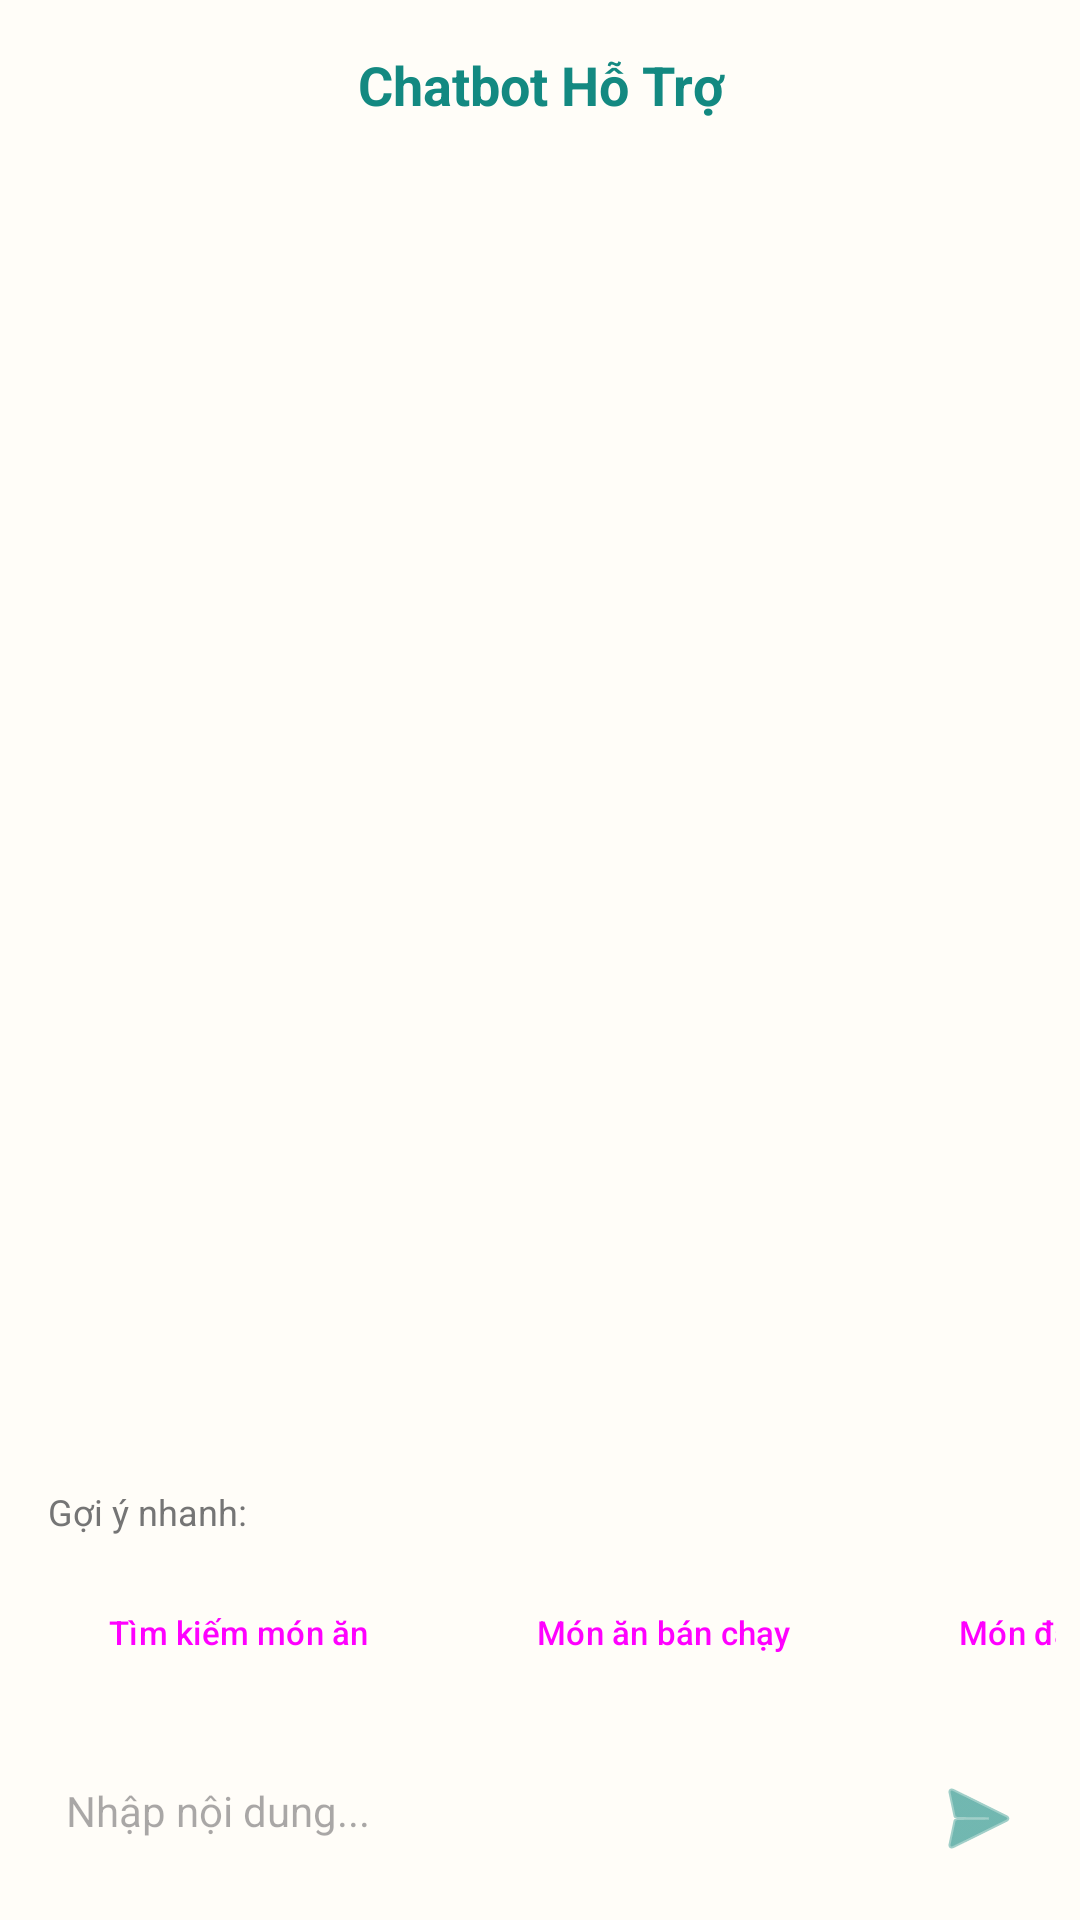

Where to tap for icons on this 1080 × 1920 app screen, as [x,y]:
send: [979,1818]
